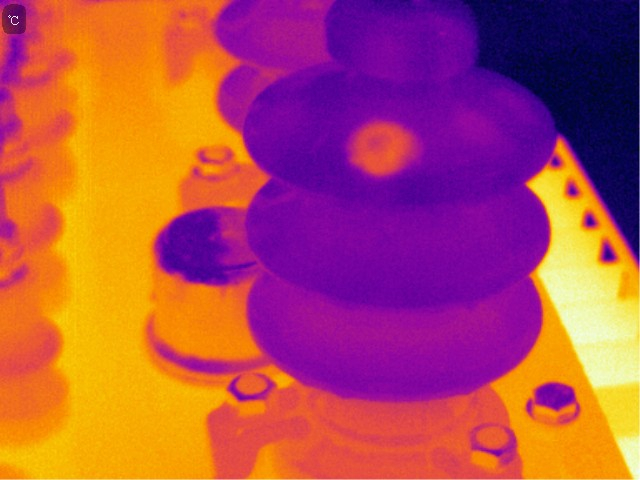Oil: (341, 113, 425, 184), (448, 111, 503, 147)
